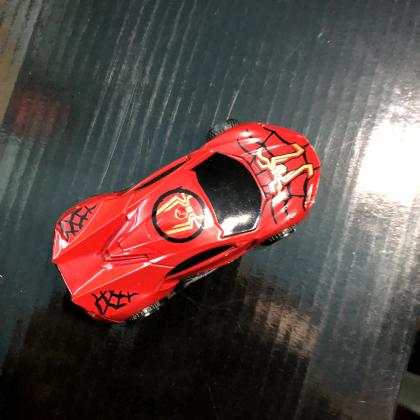Car: (51, 123, 321, 325)
